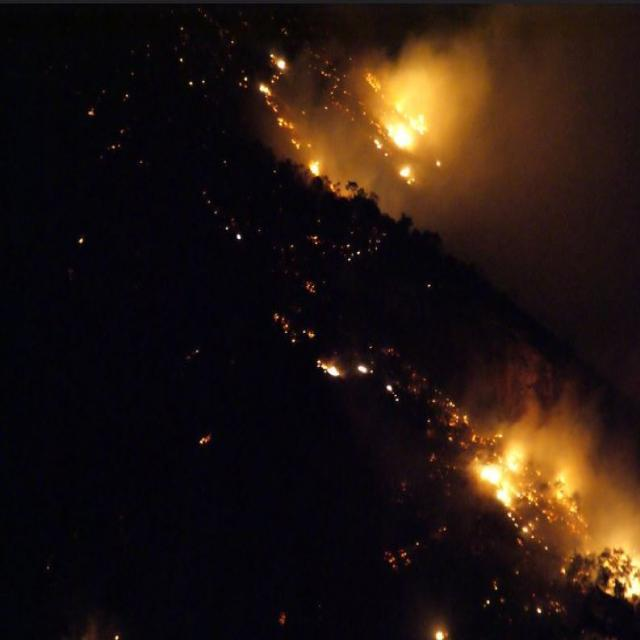Fire: (476, 441, 586, 522), (605, 536, 640, 602), (445, 395, 469, 430), (387, 124, 415, 152), (272, 104, 295, 129), (410, 111, 428, 135), (364, 71, 382, 95), (398, 165, 414, 185), (274, 311, 288, 331), (322, 360, 338, 376), (308, 160, 321, 176), (273, 53, 286, 69), (394, 98, 404, 115), (258, 81, 273, 92), (357, 362, 369, 375), (374, 138, 385, 152), (434, 628, 446, 640), (306, 280, 315, 294), (292, 137, 300, 152), (199, 436, 209, 446)
Smoke: (430, 0, 640, 241), (498, 353, 611, 438), (586, 438, 640, 534), (320, 111, 372, 182), (384, 33, 427, 96), (550, 524, 600, 554)
